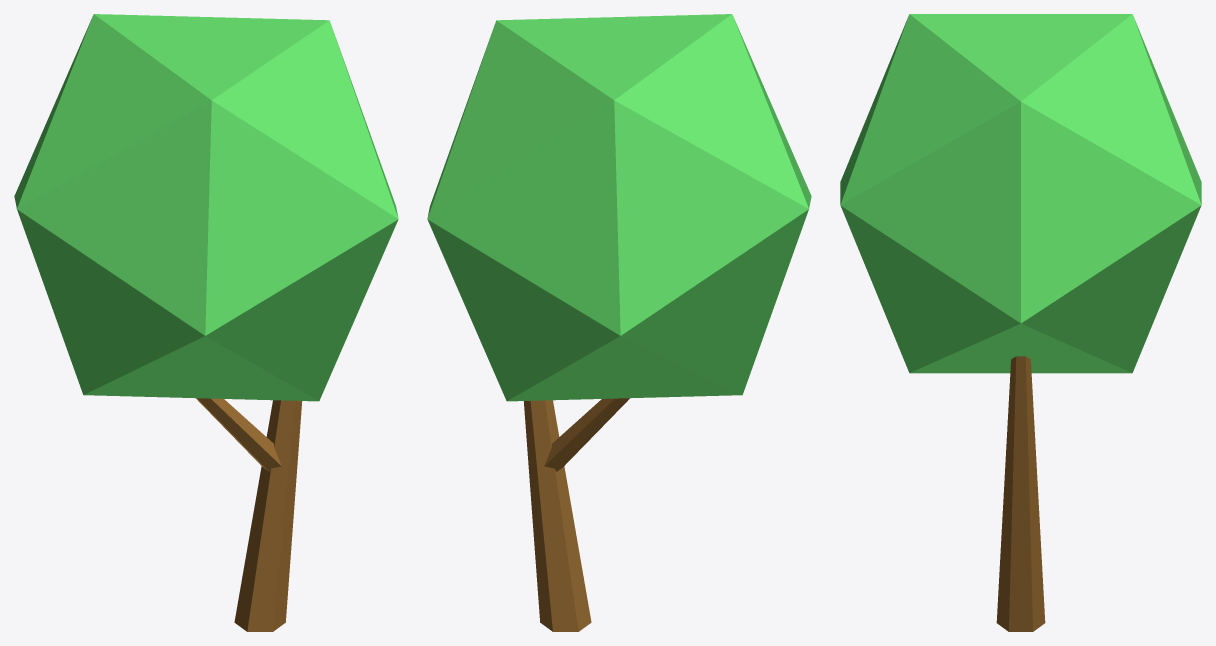
File: Tree2.fbx
3 views of the same model, side by side, from view 1: azimuth 30°, elevation 25°; view 2: azimuth 150°, elevation 25°; view 3: azimuth 270°, elevation 25° (orthographic). The views are drawn at different scales.
Parts seen in each view (by area): view 1: Tree2; view 2: Tree2; view 3: Tree2.
Part boxes in pixels (bbox=[...]): Tree2: bbox=[14, 14, 398, 631]; Tree2: bbox=[427, 14, 811, 631]; Tree2: bbox=[840, 14, 1201, 631].
Bounding box in the file's own units: 273 × 406 × 238.
